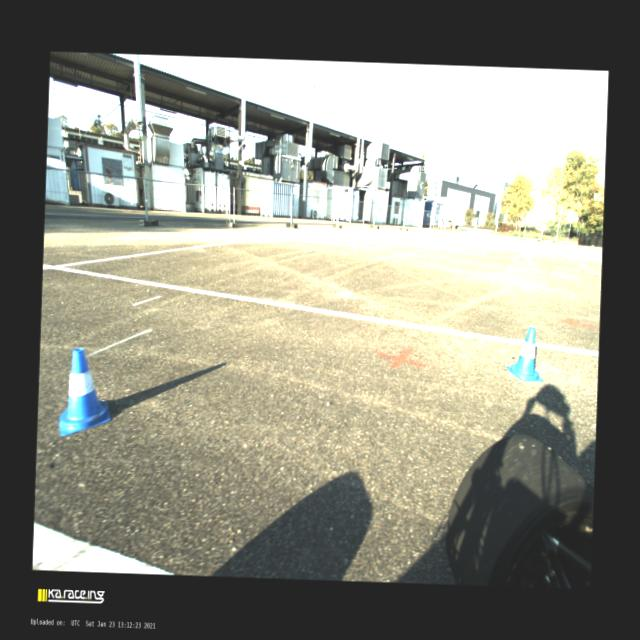blue_cone: (59, 348, 112, 437), (505, 326, 545, 381)
